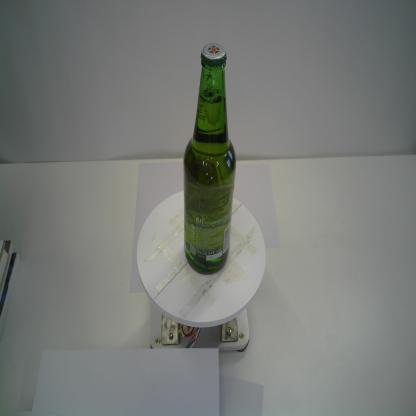Alcohol: (181, 42, 238, 278)
